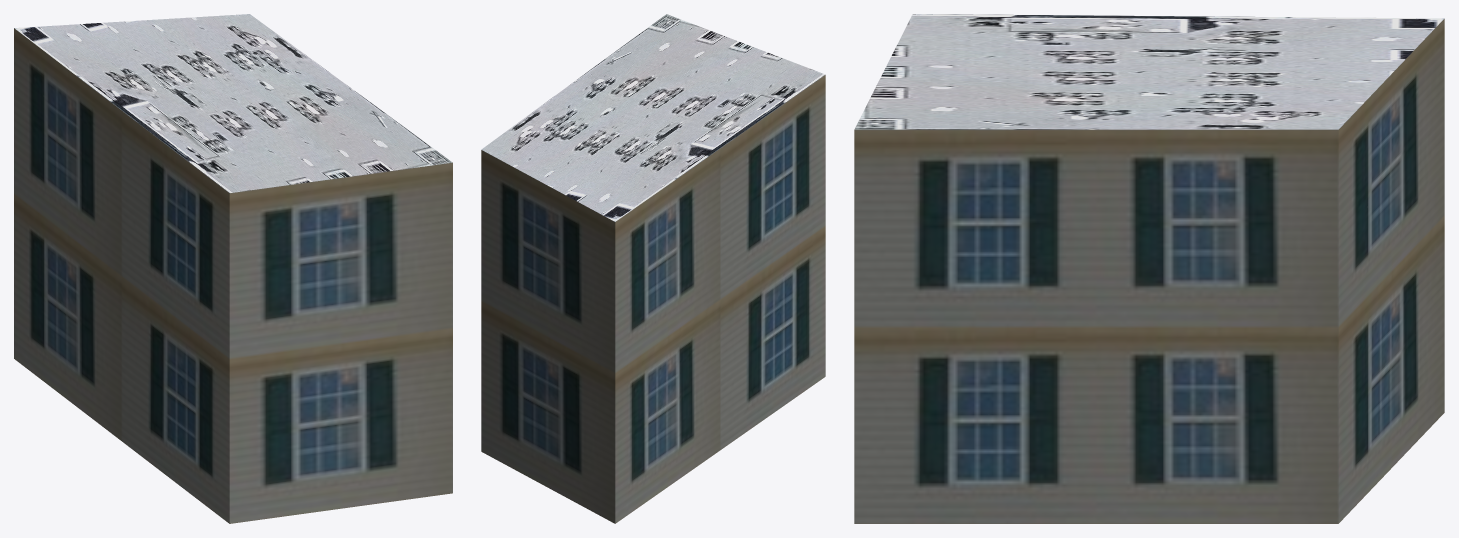
The model's file is ResTex__3049.fbx.
3 views of the same model, side by side, from view 1: azimuth 30°, elevation 25°; view 2: azimuth 150°, elevation 25°; view 3: azimuth 270°, elevation 25° (orthographic). The views are drawn at different scales.
Visible parts, largest first — view 1: CityEngineMaterial_7_m, CityEngineMaterial_4_m; view 2: CityEngineMaterial_7_m, CityEngineMaterial_4_m; view 3: CityEngineMaterial_7_m, CityEngineMaterial_4_m.
Boxes of the visible parts, box(x1,y1,x2,y2) form: CityEngineMaterial_7_m: box(14, 28, 452, 523); CityEngineMaterial_4_m: box(14, 14, 452, 192); CityEngineMaterial_7_m: box(481, 75, 825, 523); CityEngineMaterial_4_m: box(481, 14, 825, 221); CityEngineMaterial_7_m: box(854, 19, 1444, 523); CityEngineMaterial_4_m: box(854, 14, 1444, 129).
Bounding box in the file's own units: 3.78 × 6 × 8.14.
2 materials, 2 textured.
